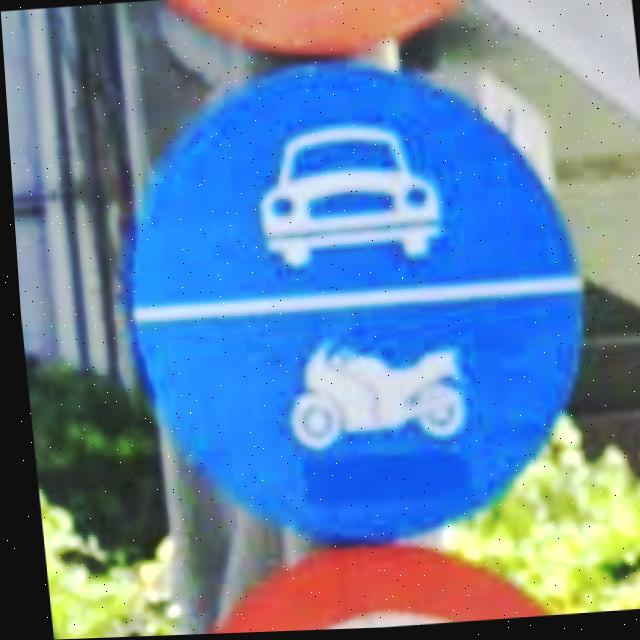carmotorcycle: (97, 44, 603, 556)
